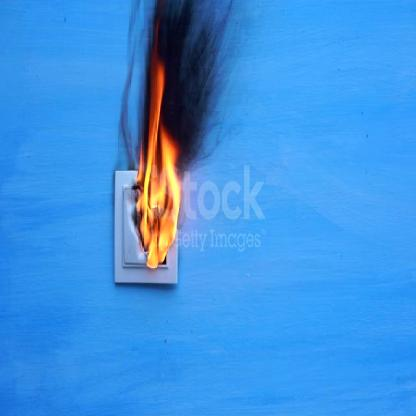fire: (132, 47, 186, 275)
smoke: (112, 12, 156, 185)
